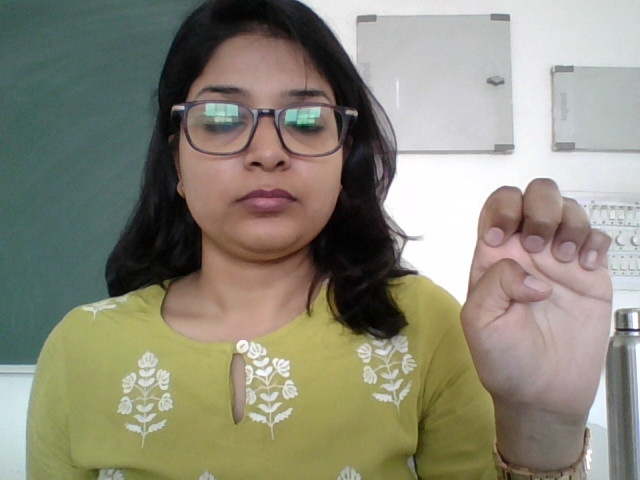E: (456, 174, 623, 429)
